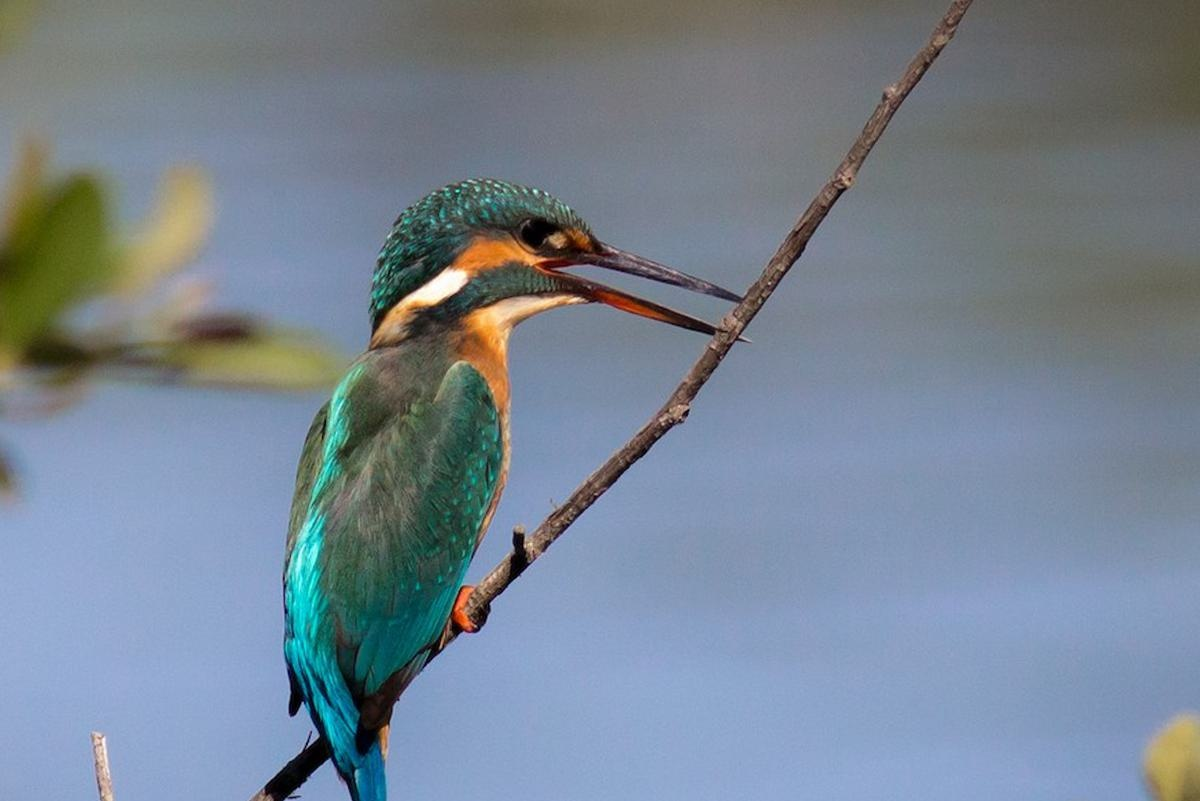kingfisher: (264, 143, 768, 784)
